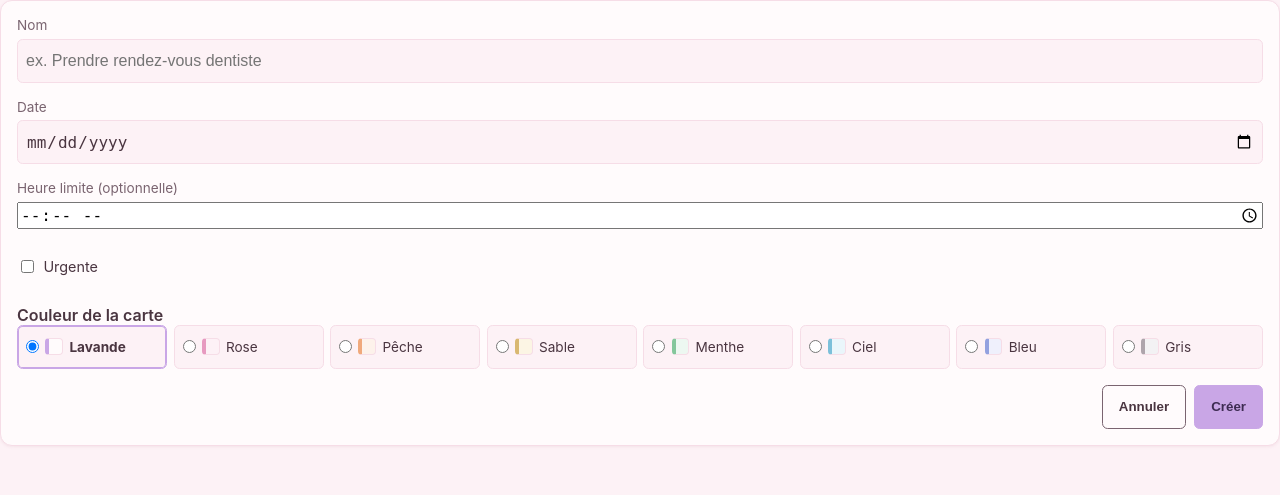
Scenario: TaskForm (US-002) › bloque la création et signale le nom manquant (scénario 3)
Type "2026-08-15" into the date field labelled "Date".
click(640, 142); type("2026-08-15")  # box [17,120,1263,164]
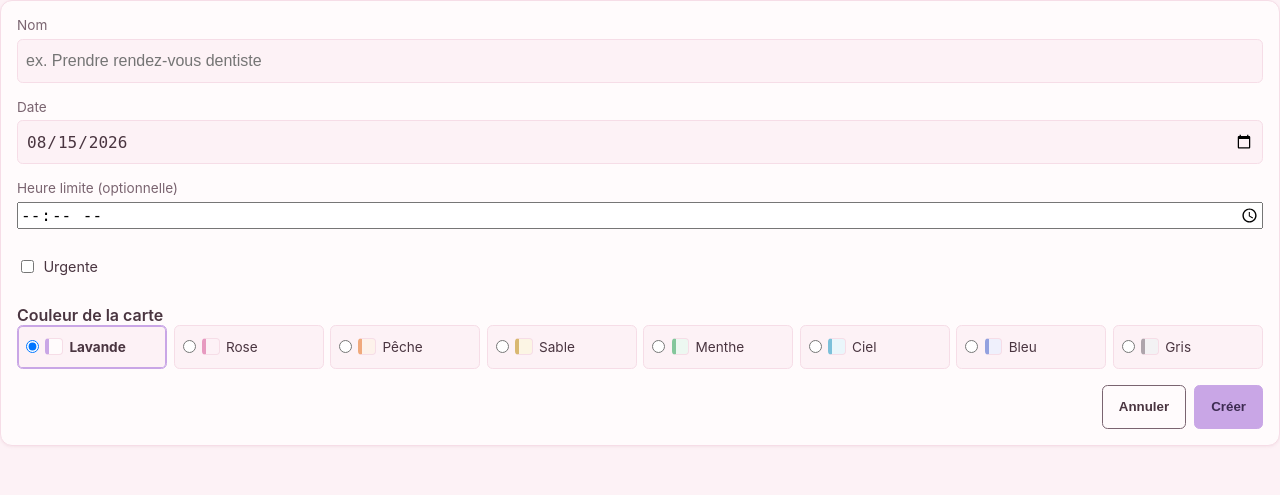
Click the button "Créer".
click(1229, 407)  # box [1194,385,1263,429]
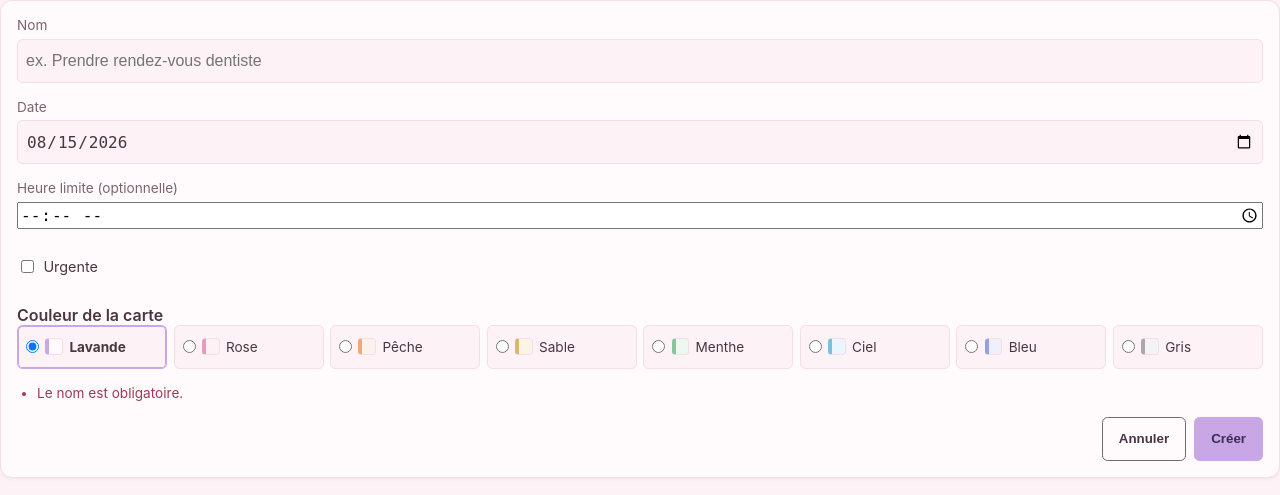
Expected: the message reads "Le nom est obligatoire.", [37,385,183,401]
